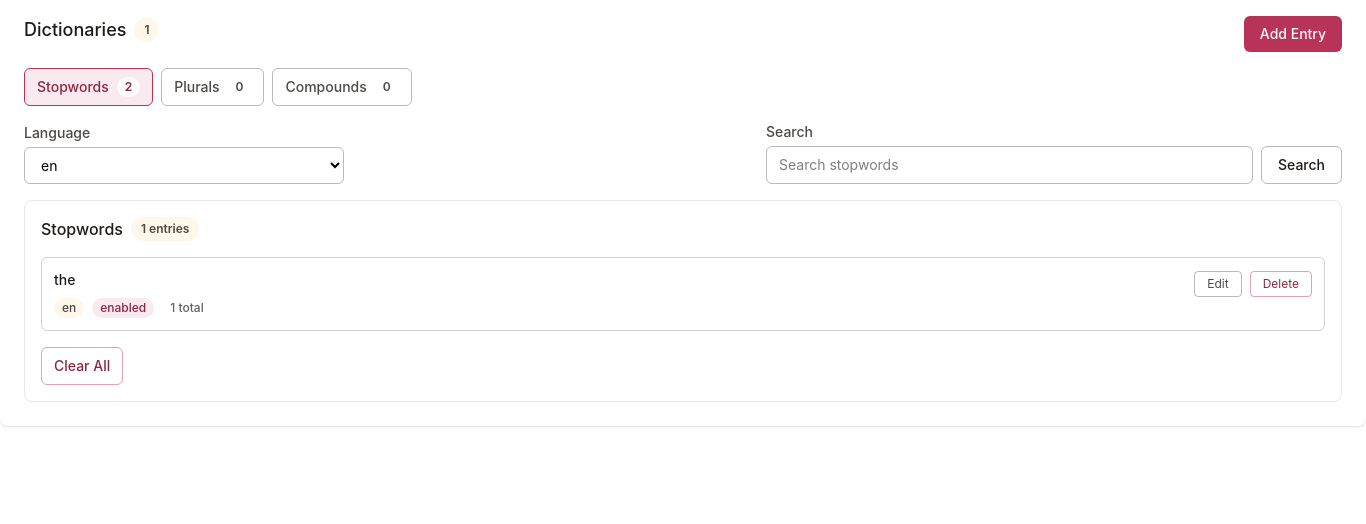
Test: DictionariesTab › renders exactly three loading skeleton rows and suppresses mutation controls while loading
Step 1. Click the tab with test id "dictionary-tab-plurals" → click(213, 87), box [161,68,264,106]
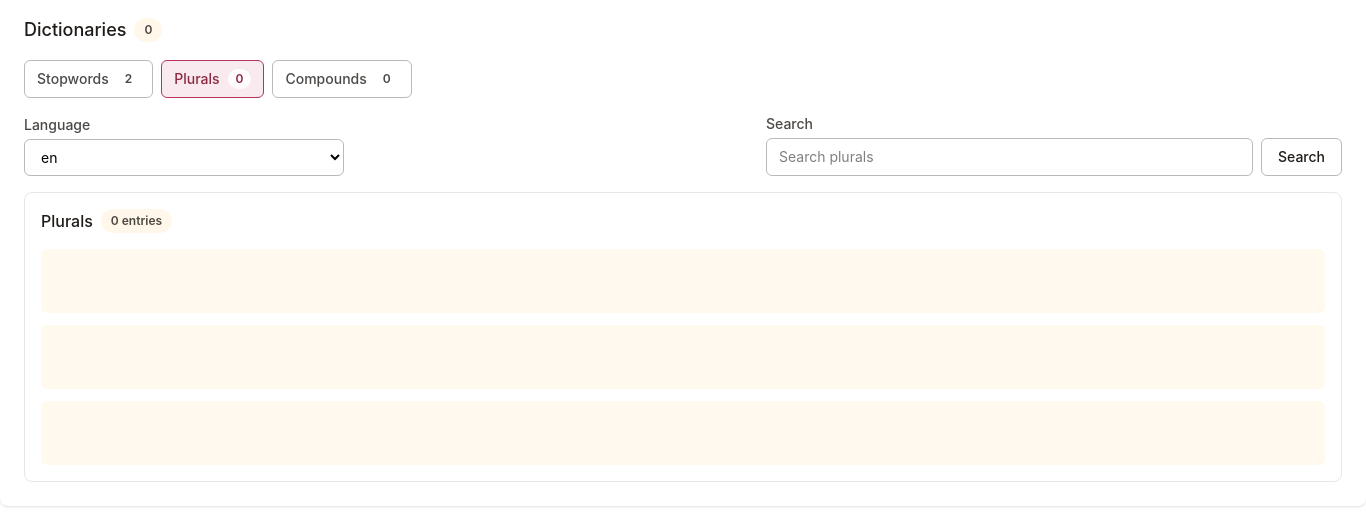
Check: the button with test id "dictionary-add-entry-btn" is gone
Check: the button "Clear All" is gone
Check: the button with test id "dictionary-entry-edit-stop-the" is gone
